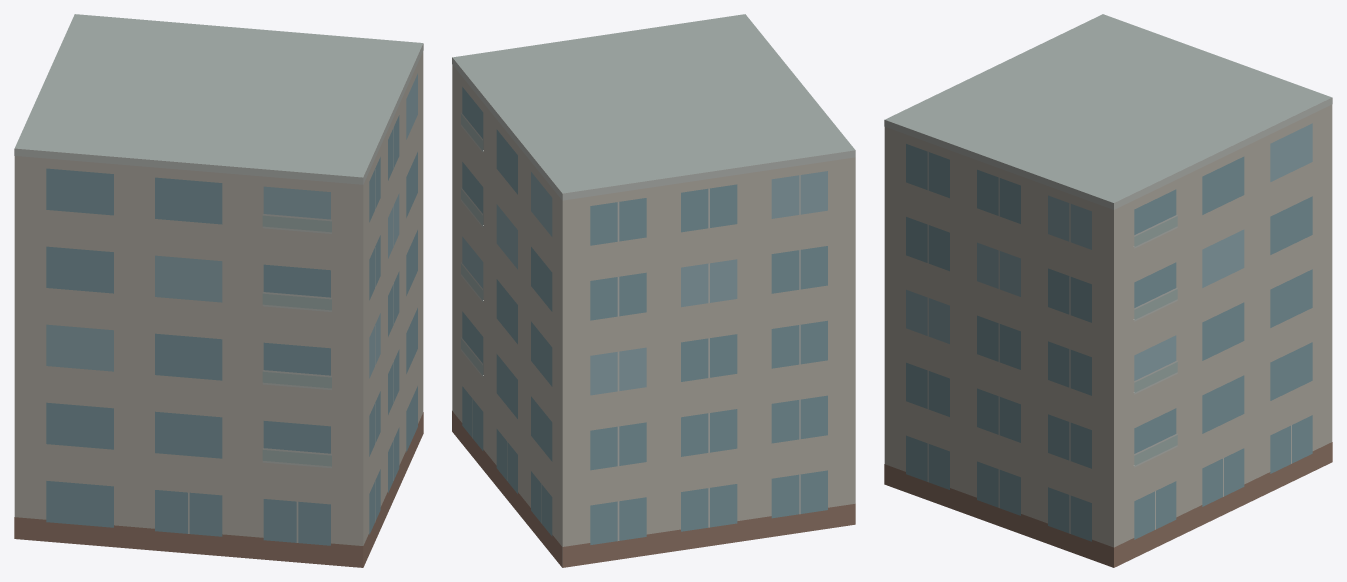
The model's file is survey-upis-32534249.glb.
3 renders of one model, left to right at view 1: azimuth 30°, elevation 25°; view 2: azimuth 150°, elevation 25°; view 3: azimuth 270°, elevation 25°, orthographic. The views are drawn at different scales.
Visible parts, largest first — view 1: survey-upis-32534249.tmp; view 2: survey-upis-32534249.tmp; view 3: survey-upis-32534249.tmp.
Boxes of the visible parts, <box> form: survey-upis-32534249.tmp: <box>14,14,423,567</box>; survey-upis-32534249.tmp: <box>452,14,855,567</box>; survey-upis-32534249.tmp: <box>884,14,1332,567</box>.
Size of the model in its own units: 14.47 by 13 by 14.47.
